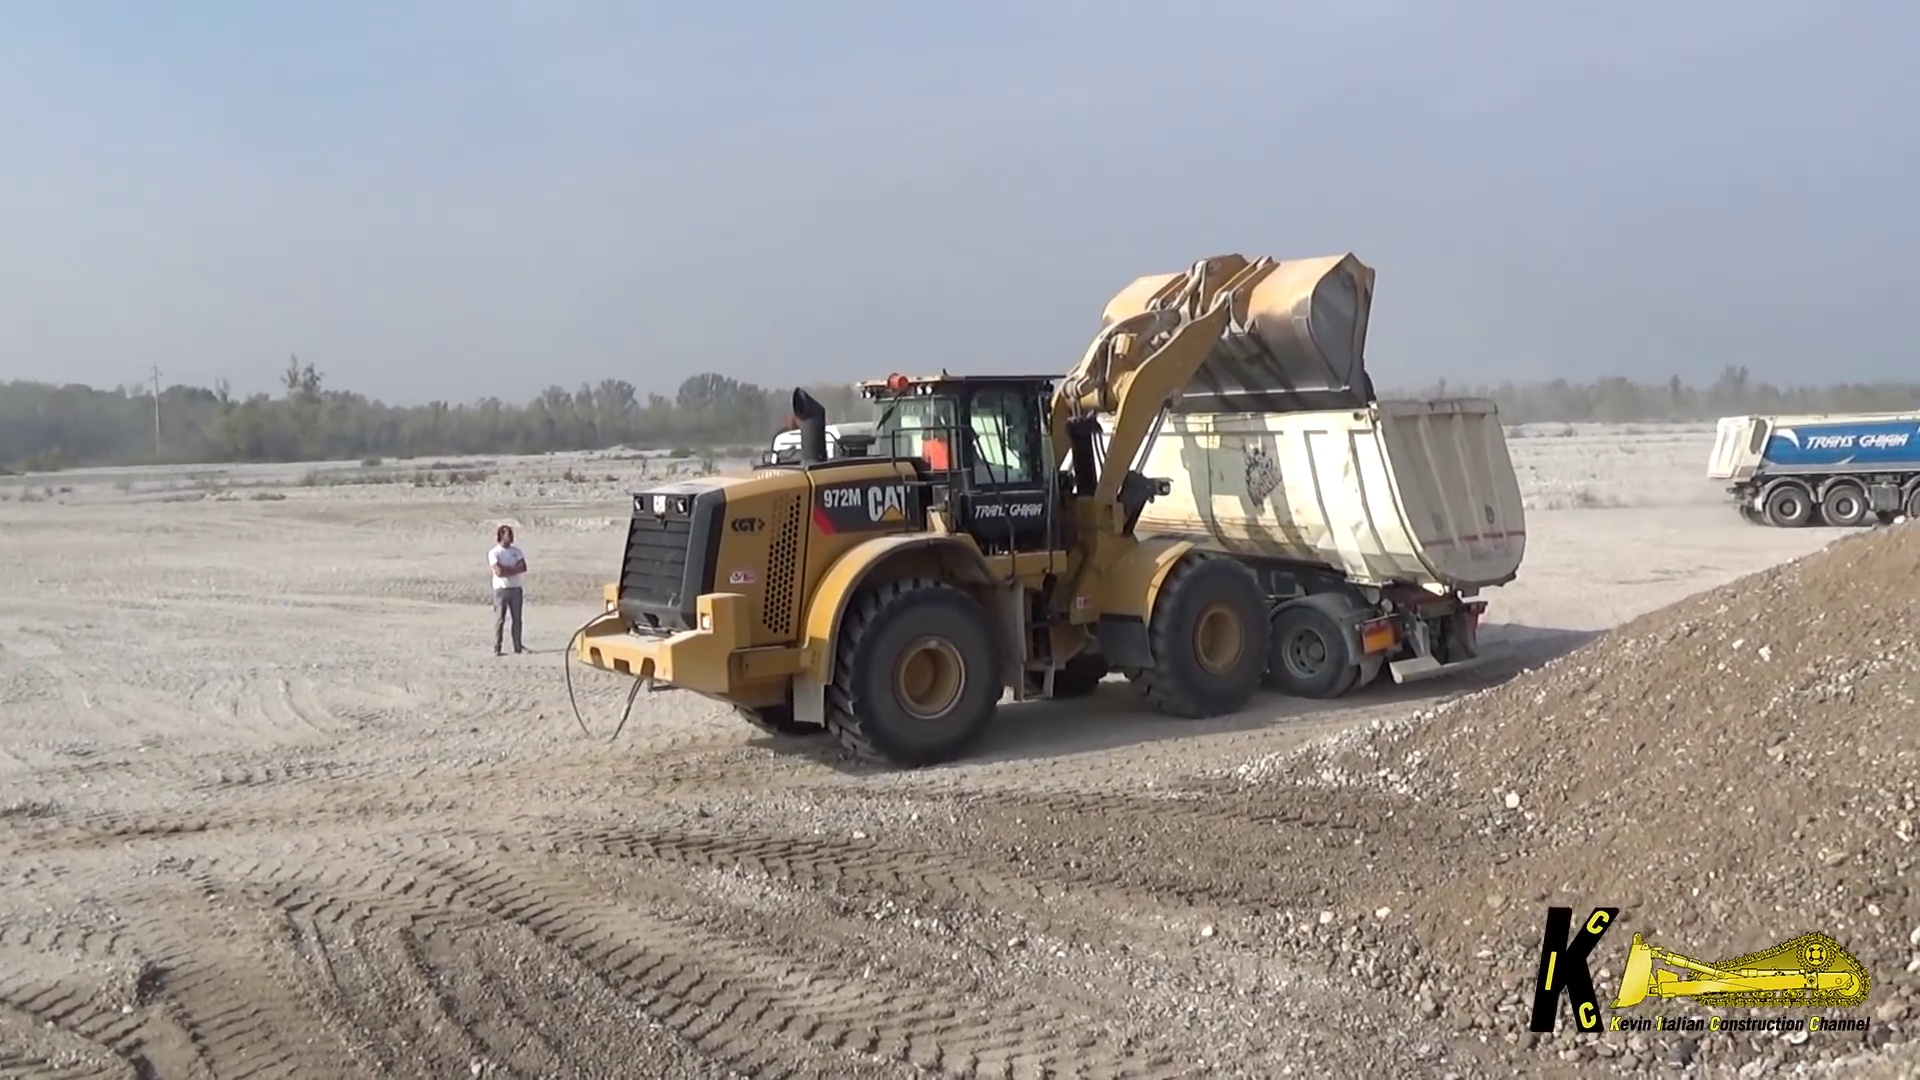person: (489, 517, 534, 650)
truck: (762, 401, 1530, 690), (1705, 408, 1916, 527)
wheel loader: (575, 247, 1384, 765)
